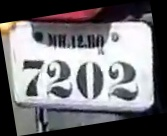character: (108, 60, 140, 101), (45, 58, 73, 99), (75, 59, 103, 100), (21, 58, 44, 97)
